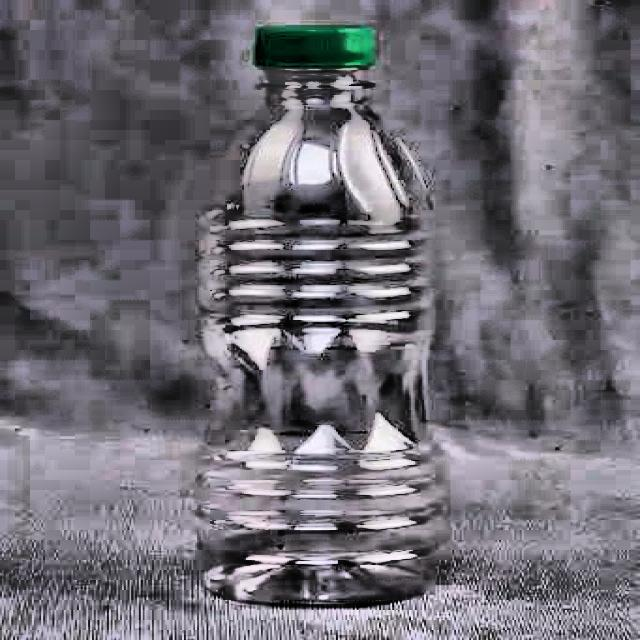plastic bottle: (197, 24, 450, 607)
